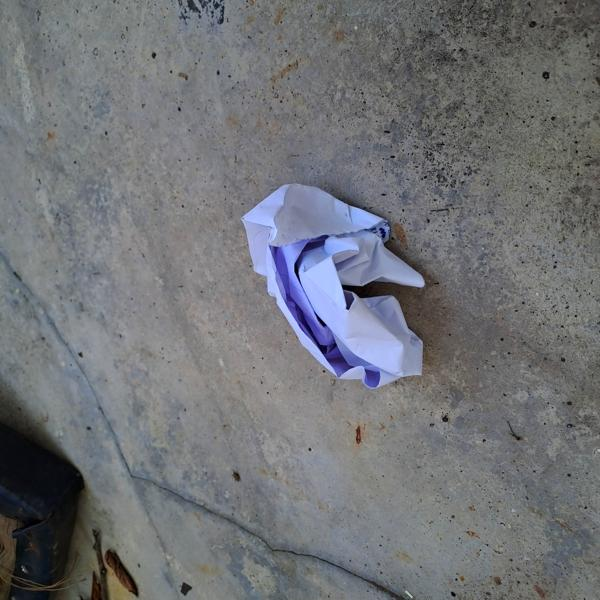Organik: (234, 166, 459, 410)
